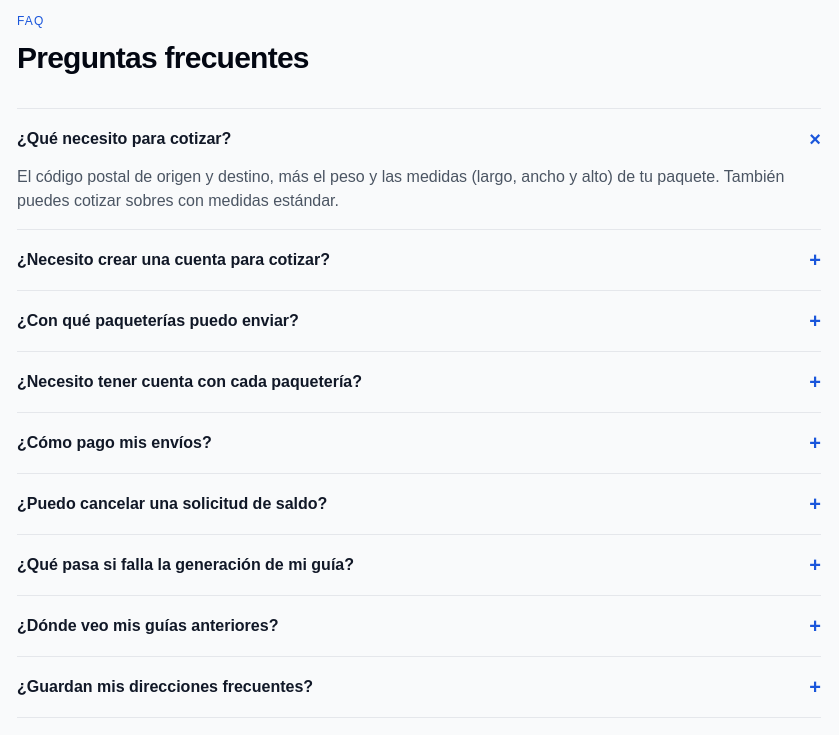
Test: LandingFaq › collapses the open question when clicked again
The image size is (839, 735).
What coordinates should you click on to do the following:
click the button "¿Qué necesito para cotizar? ×"
I would click on:
 (124, 138)
Its box is x1=17 y1=125 x2=821 y2=153.
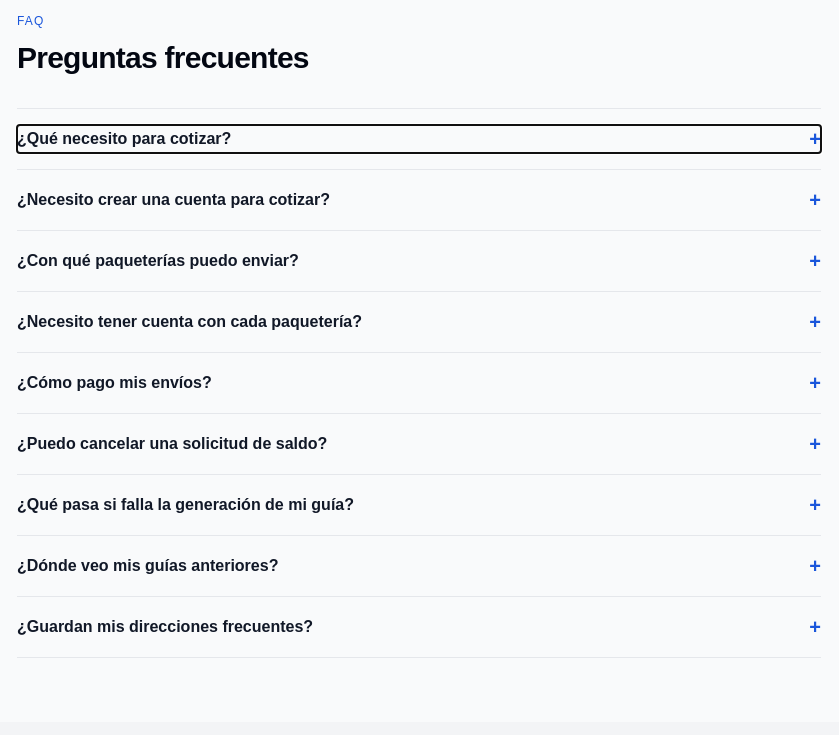
Check: the button "¿Qué necesito para cotizar? +" is collapsed, box x1=17 y1=125 x2=821 y2=153
Check: the text "El código postal de origen y destino, más el peso y las medidas (largo, ancho y alto) de tu paquete. También puedes coti" is gone
